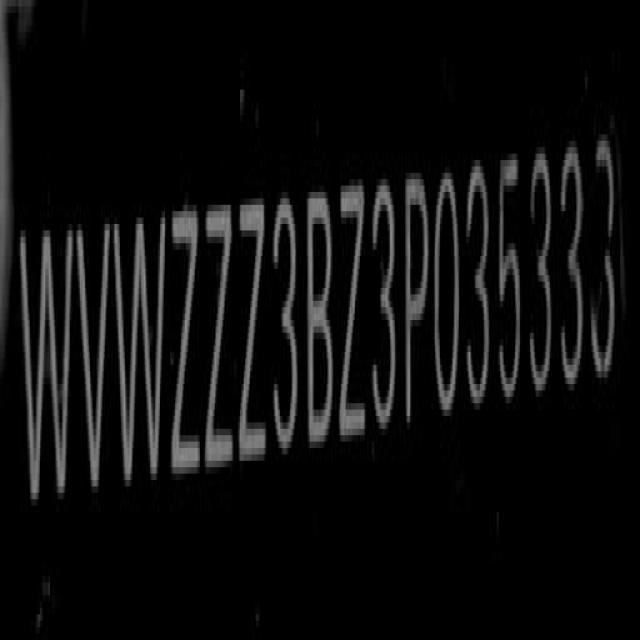0: (434, 166, 460, 423)
3: (273, 190, 300, 467), (372, 175, 398, 445), (594, 130, 621, 389), (466, 156, 493, 414), (561, 137, 587, 397), (530, 145, 554, 403)
5: (498, 148, 524, 406)
B: (306, 180, 335, 452)
P: (404, 169, 431, 431)
V: (75, 225, 111, 500)
W: (113, 206, 168, 505), (19, 223, 71, 520)
Z: (172, 198, 204, 492), (238, 187, 268, 462), (206, 194, 234, 486), (341, 176, 369, 452)
